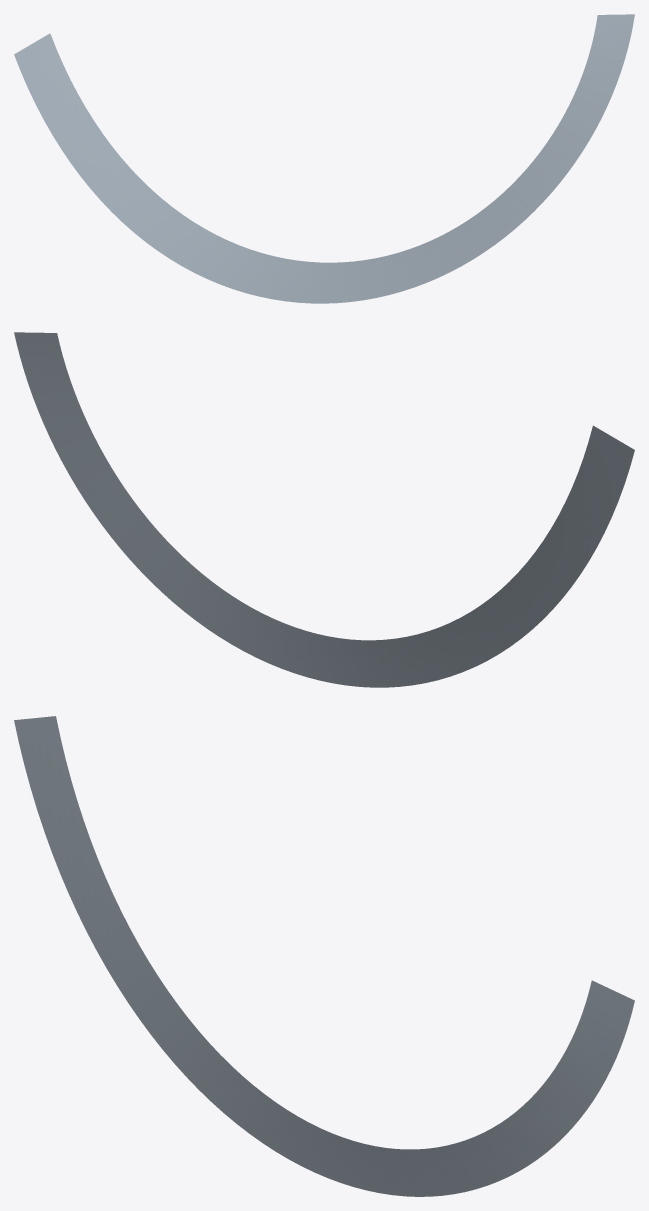
The model's file is Sucrose_AstableAnemohypostasisCreation_SingleTarget_GatheringWind_35_4.fbx.
3 views of the same model, one above another, from view 1: azimuth 30°, elevation 25°; view 2: azimuth 150°, elevation 25°; view 3: azimuth 330°, elevation 25° (orthographic). The views are drawn at different scales.
Visible parts, largest first — view 1: PART_GatheringWind_35_4; view 2: PART_GatheringWind_35_4; view 3: PART_GatheringWind_35_4.
Part boxes in pixels (x1,y1,x2,y2): PART_GatheringWind_35_4: (14,14,634,303); PART_GatheringWind_35_4: (14,332,634,687); PART_GatheringWind_35_4: (14,716,634,1196).
Size of the model in its own units: 130 by 66.9 by 16.98.
